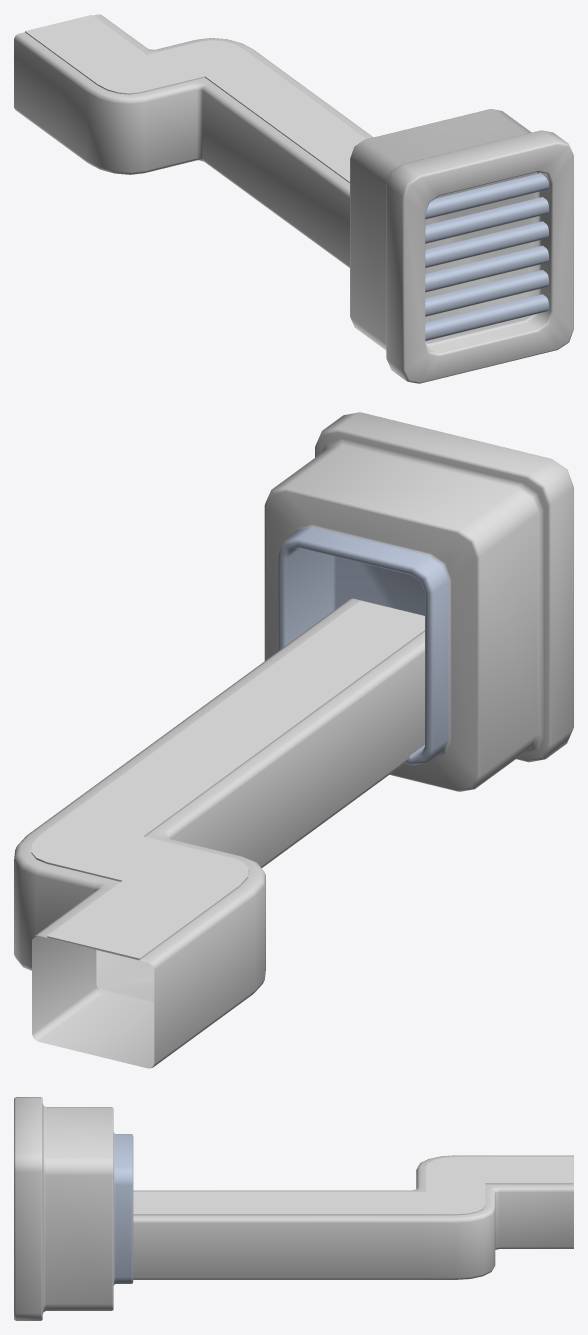
The model's file is band.fbx.
The picture shows the model from 3 angles, top to bottom: view 1: azimuth 30°, elevation 25°; view 2: azimuth 150°, elevation 25°; view 3: azimuth 270°, elevation 25°; orthographic projection. The views are drawn at different scales.
Parts seen in each view (by area): view 1: Cube.001, Plane.002; view 2: Cube.001, Plane.002; view 3: Cube.001, Plane.002.
Boxes of the visible parts, <box> form: Cube.001: <box>14,14,573,383</box>; Plane.002: <box>25,15,366,182</box>; Cube.001: <box>14,412,573,1068</box>; Plane.002: <box>31,601,424,960</box>; Cube.001: <box>14,1097,573,1320</box>; Plane.002: <box>133,1157,573,1215</box>.
Bounding box in the file's own units: 236 × 219 × 664.
